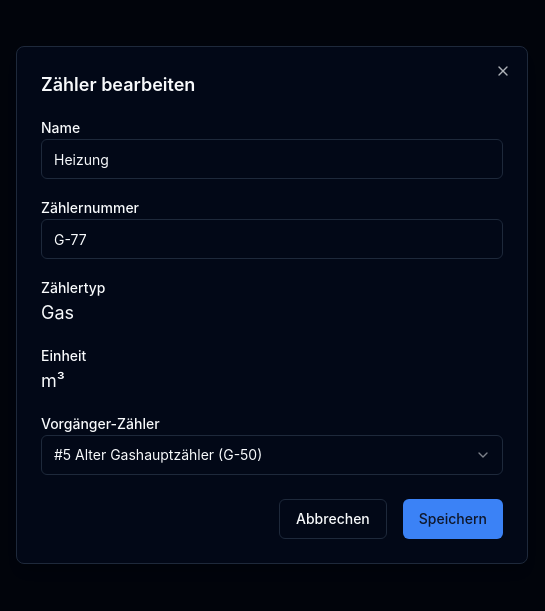
EditMeterModal › shows an inline validation error and does not submit when the label is empty
Check: the text "Gas" is shown, box [41,302,74,323]
Clear the field labelled "Name": (272, 159) [41,139,503,179]
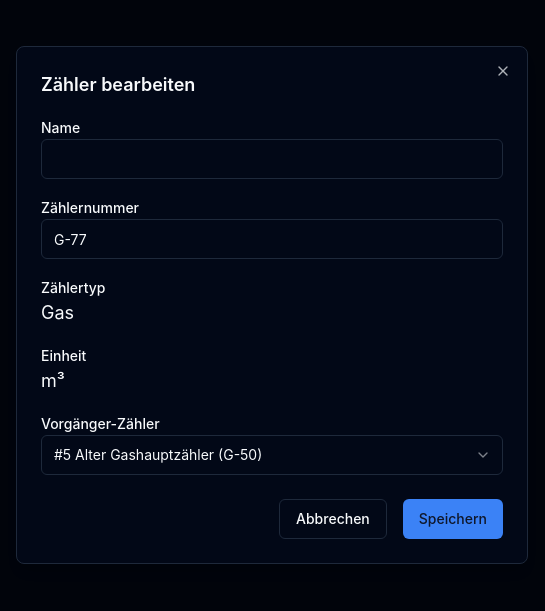
Submit the form
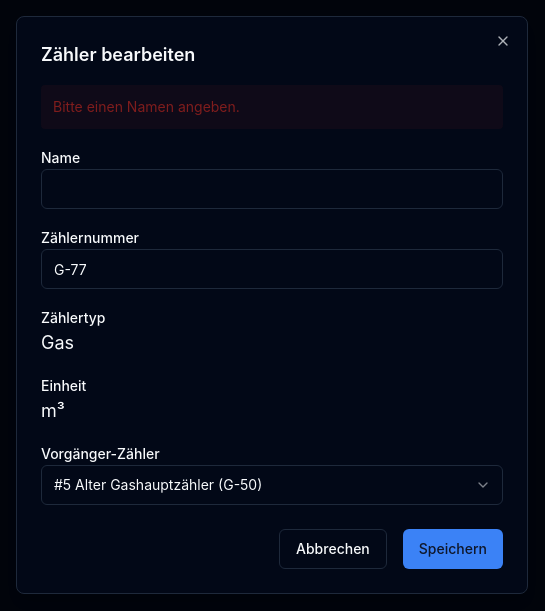
Check: the text "Bitte einen Namen angeben." is shown, box [41,85,503,129]
